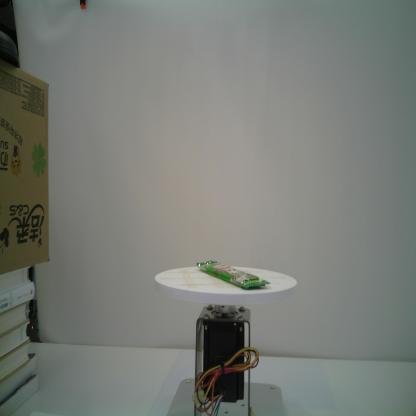Chocolate: (197, 258, 272, 290)
